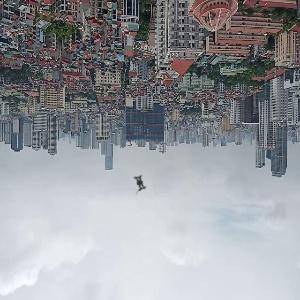drone: (121, 163, 161, 203)
